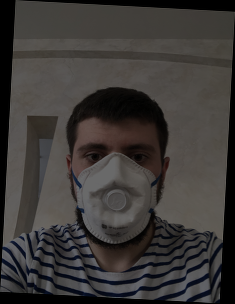with_mask: (70, 134, 161, 249)
